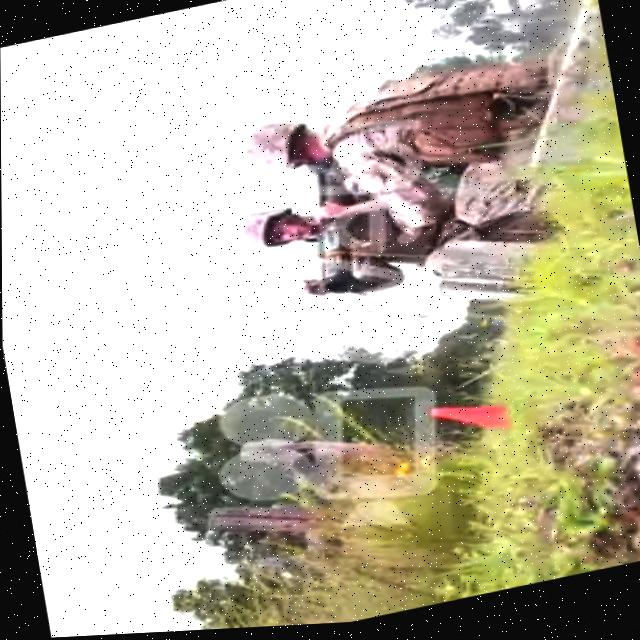rocket: (291, 181, 386, 310)
